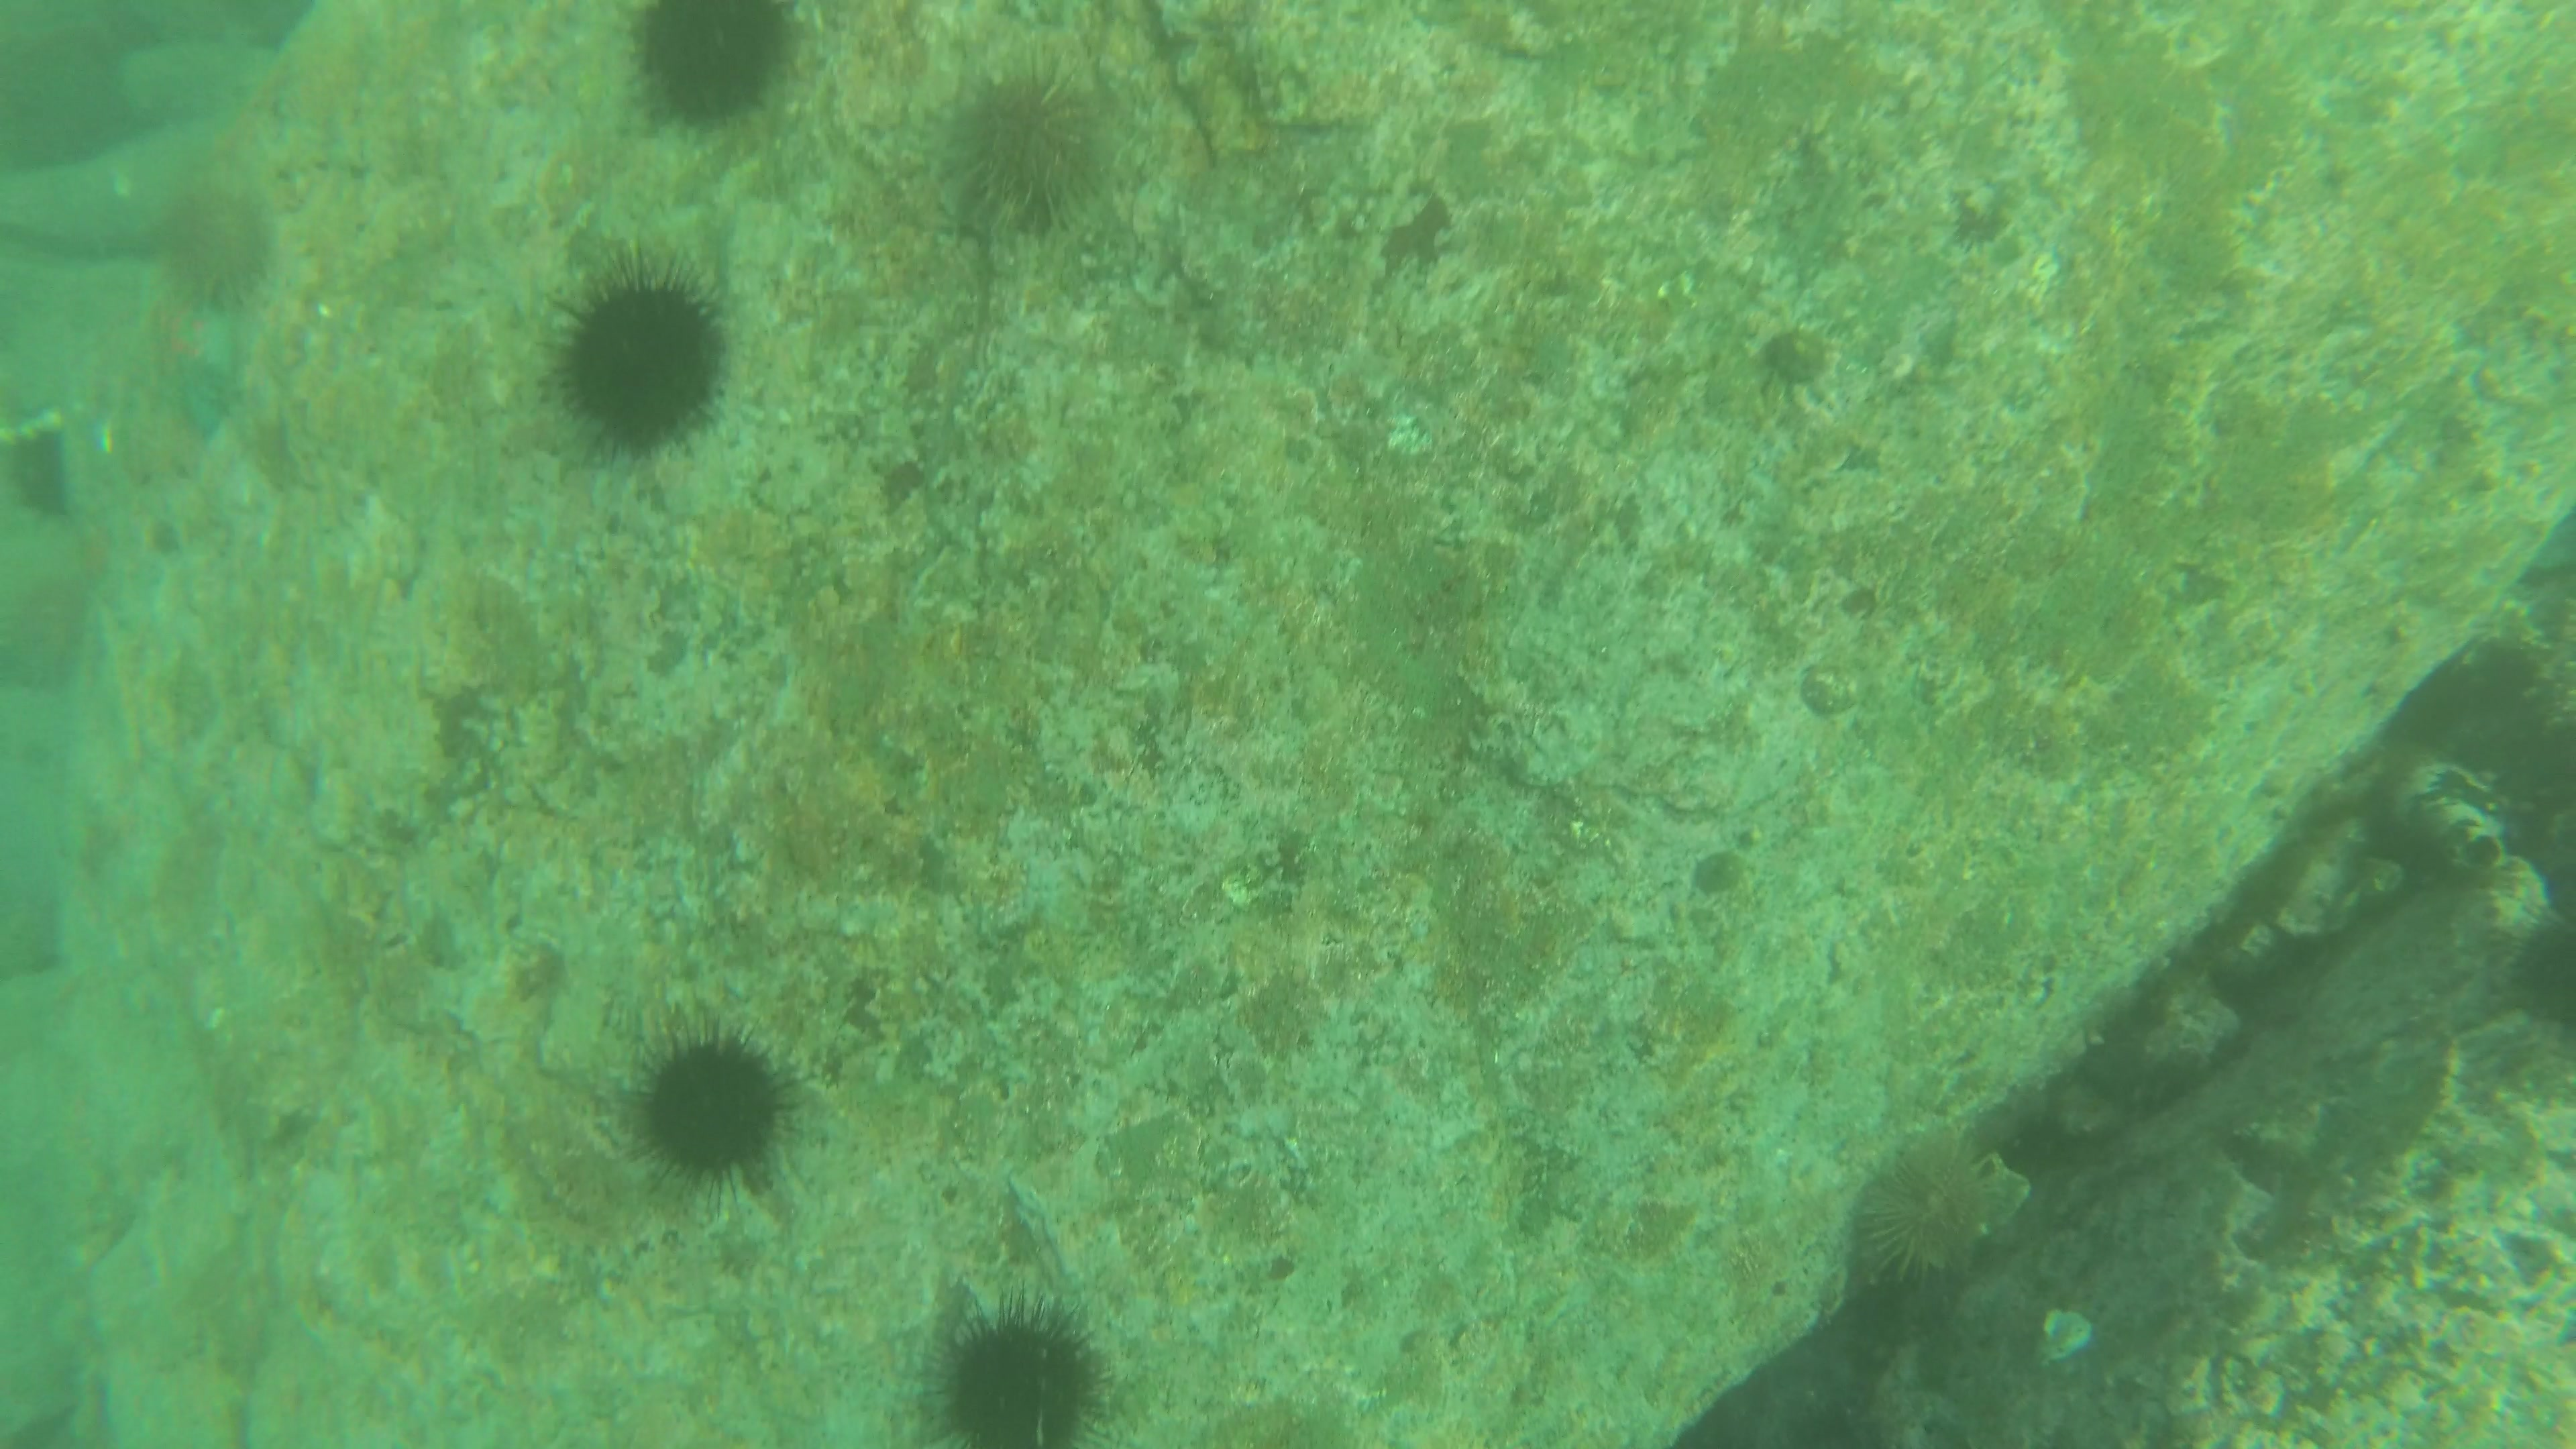echinus: (623, 1019, 824, 1196), (556, 249, 717, 456), (941, 64, 1122, 232), (1852, 1118, 2020, 1286), (936, 1297, 1120, 1449), (621, 9, 817, 126), (154, 184, 288, 315)
starfish: (157, 288, 244, 437)
